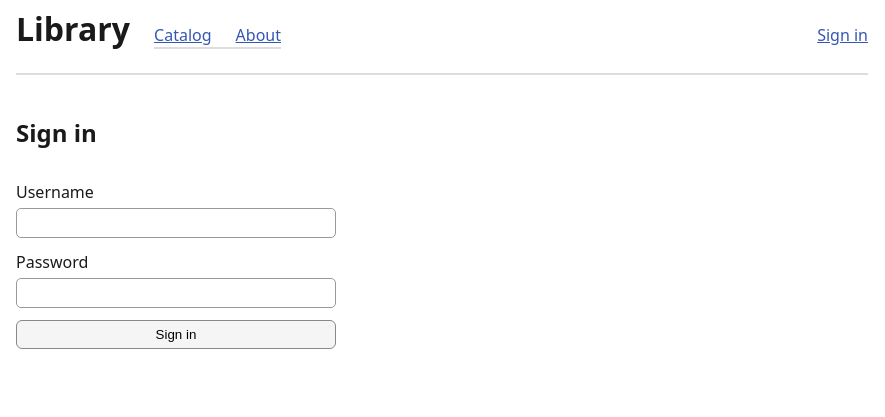
Test: login › shows the error message for bad credentials
The image size is (885, 417).
Type "ada" into the field labelled "Username" at x=176, y=223, box [16,208,336,238]
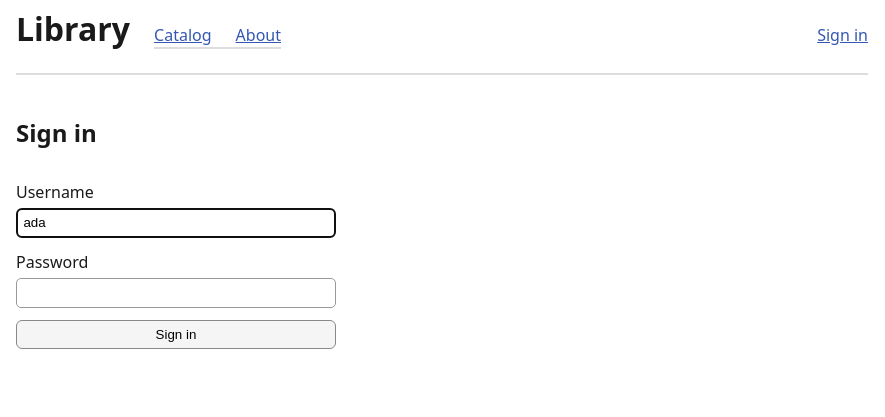
Type "wrong-password" into the password field labelled "Password" at x=176, y=293, box [16,278,336,308]
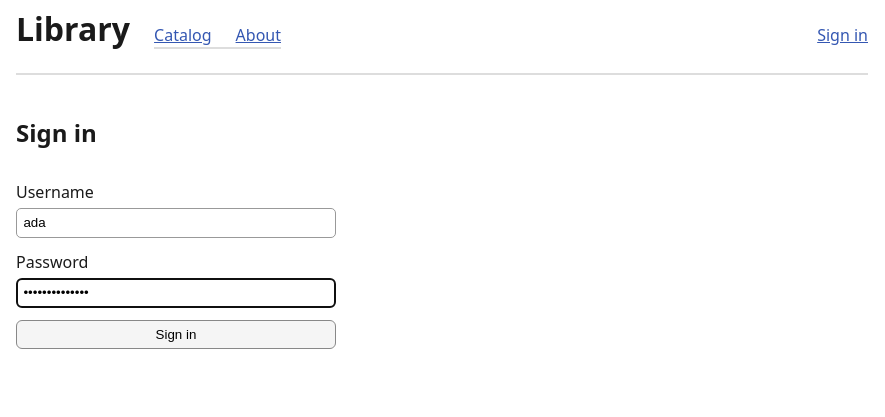
Click the button "Sign in" at x=176, y=335, box [16,320,336,350]
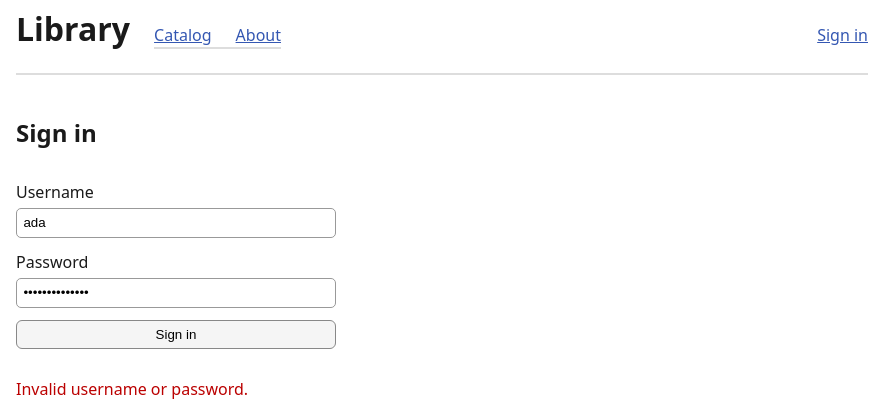
Expected: the link "Sign in" is shown, [817,23,868,47]
Result: the text with class "error" reads "Invalid username or password." at [16,378,248,400]
